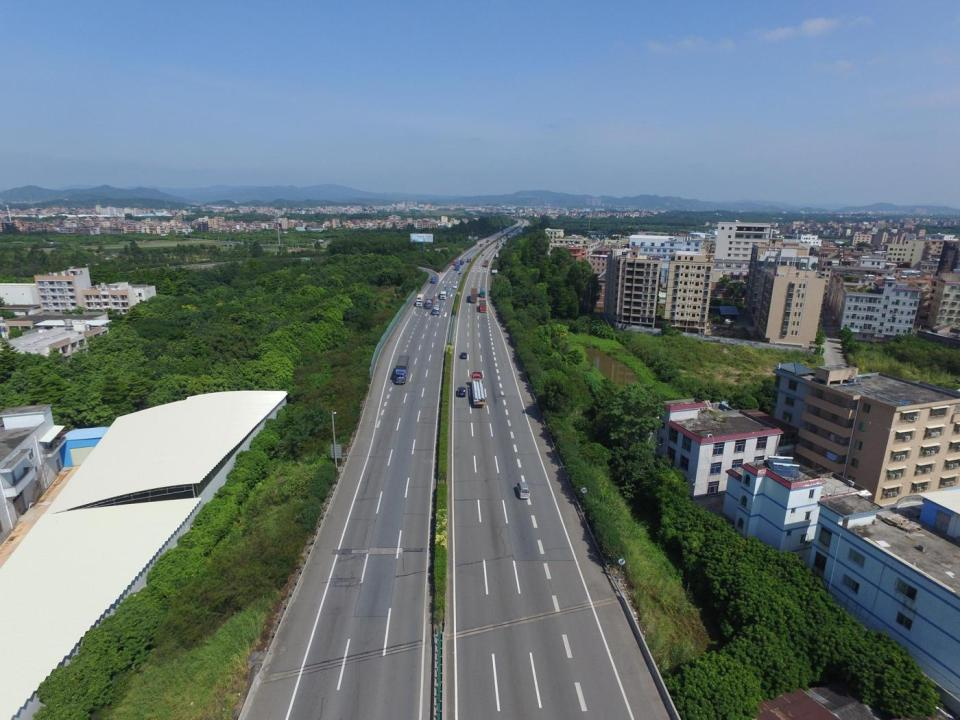car: (722, 316, 738, 323), (457, 386, 465, 396), (724, 320, 734, 325), (460, 352, 466, 358), (453, 285, 457, 288), (458, 273, 462, 276), (482, 254, 484, 256)
truck: (469, 372, 486, 406)
van: (392, 355, 410, 384), (517, 482, 530, 500), (431, 301, 441, 315), (425, 294, 434, 309), (478, 299, 486, 313), (470, 289, 478, 303), (440, 287, 449, 299), (416, 294, 424, 307), (479, 287, 486, 297), (430, 277, 436, 284), (483, 259, 489, 266), (454, 264, 460, 270), (460, 258, 465, 264), (452, 260, 456, 267), (467, 256, 471, 262), (479, 242, 483, 247), (486, 239, 489, 243), (496, 244, 498, 248)
